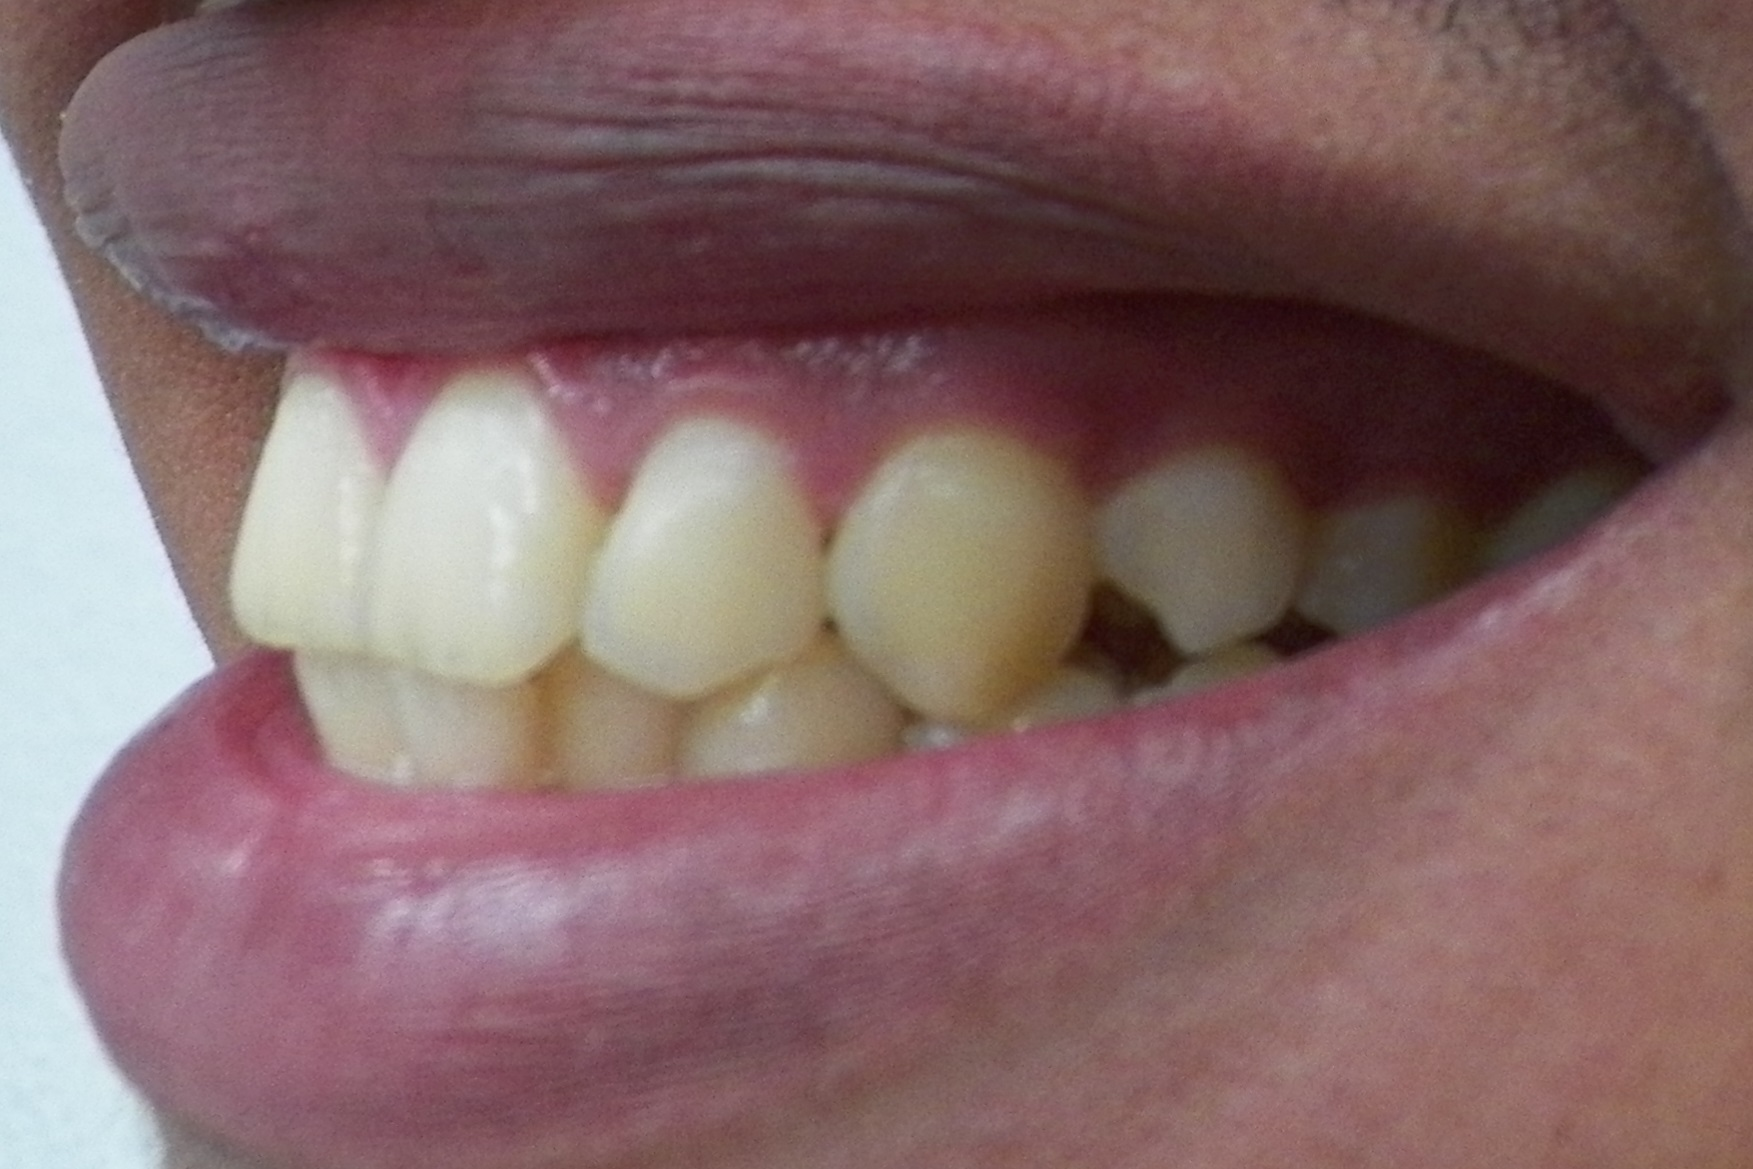boca: (230, 355, 1407, 793)
